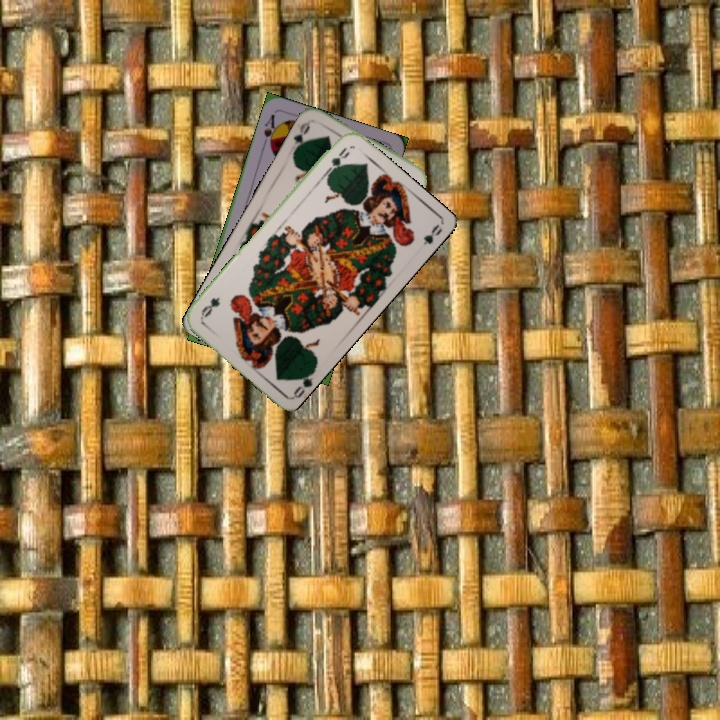GO: (321, 143, 352, 178), (289, 364, 318, 401), (289, 118, 313, 158)
SA: (259, 110, 281, 151)
